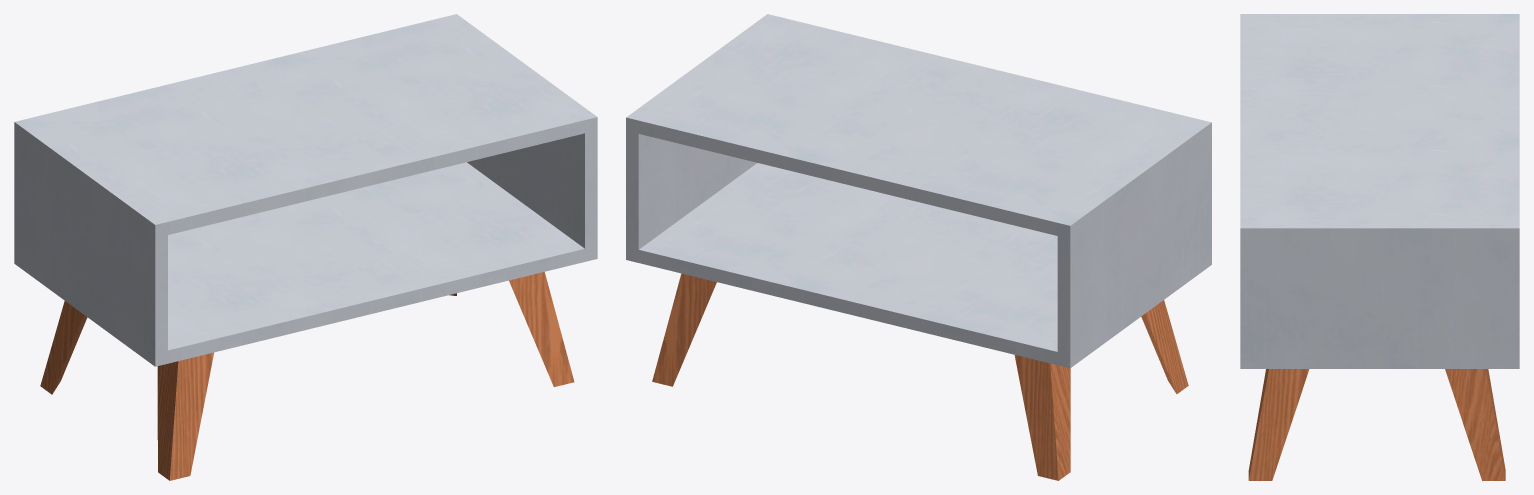
The model's file is Table_35.glb.
The picture shows the model from 3 angles, left to right: view 1: azimuth 30°, elevation 25°; view 2: azimuth 150°, elevation 25°; view 3: azimuth 270°, elevation 25°; orthographic projection.
Parts seen in each view (by area): view 1: Table_35; view 2: Table_35; view 3: Table_35.
Boxes of the visible parts, x1=… form: Table_35: x1=14, y1=14, x2=597, y2=480; Table_35: x1=626, y1=14, x2=1211, y2=480; Table_35: x1=1240, y1=14, x2=1519, y2=480.
Size of the model in its own units: 1.27 by 0.7211 by 0.698.
Materials: 2 (2 with a texture image).
